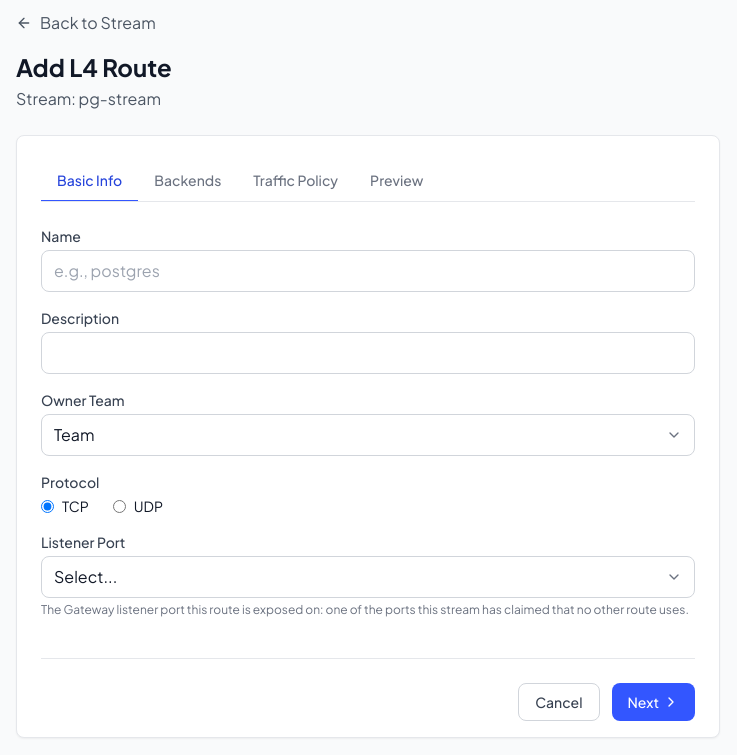
Scenario: gates policy sections by protocol
Check: the field labelled "Name" is shown, box [41,250,695,292]
Click the tab "Traffic Policy" at (296, 181), box [237,160,354,202]
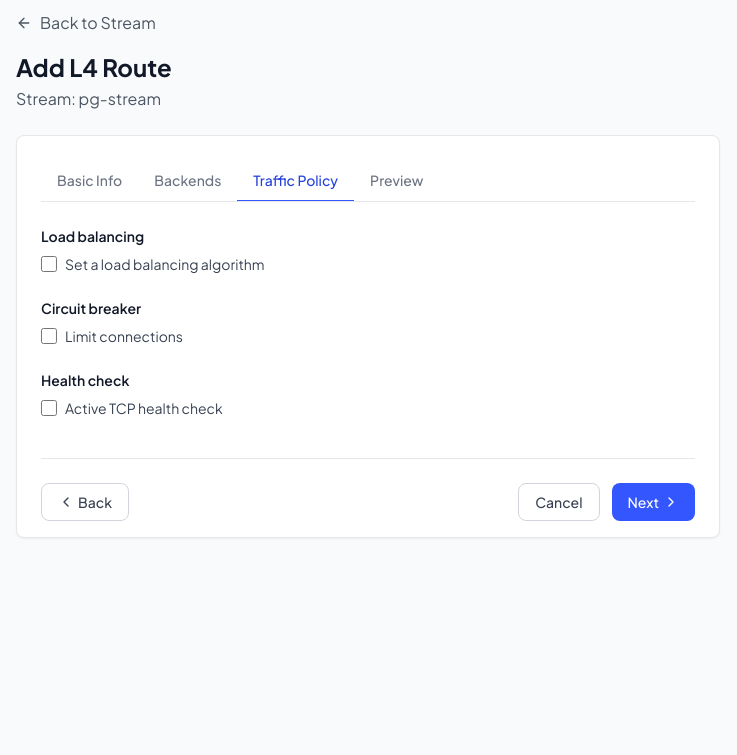
Check: the checkbox named "Enable circuit breaker" is shown, box [41,328,57,344]
Check: the checkbox named "Enable health check" is shown, box [41,400,57,416]
Check: the checkbox named "Enable load balancer" is shown, box [41,256,57,272]
Click the tab "Basic Info" at (90, 181), box [41,160,138,202]
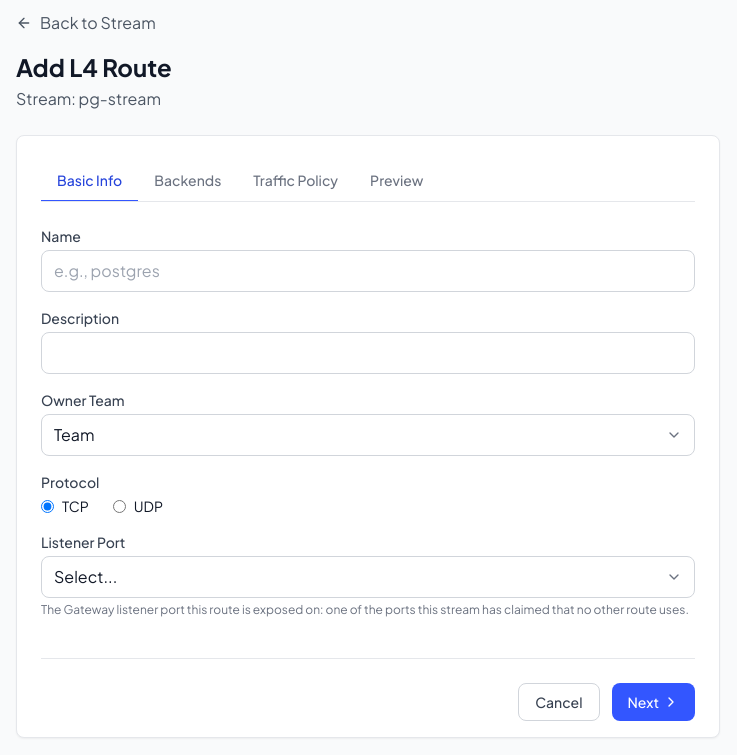
Click the radio button labelled "UDP" at (119, 506), box [113,500,126,512]
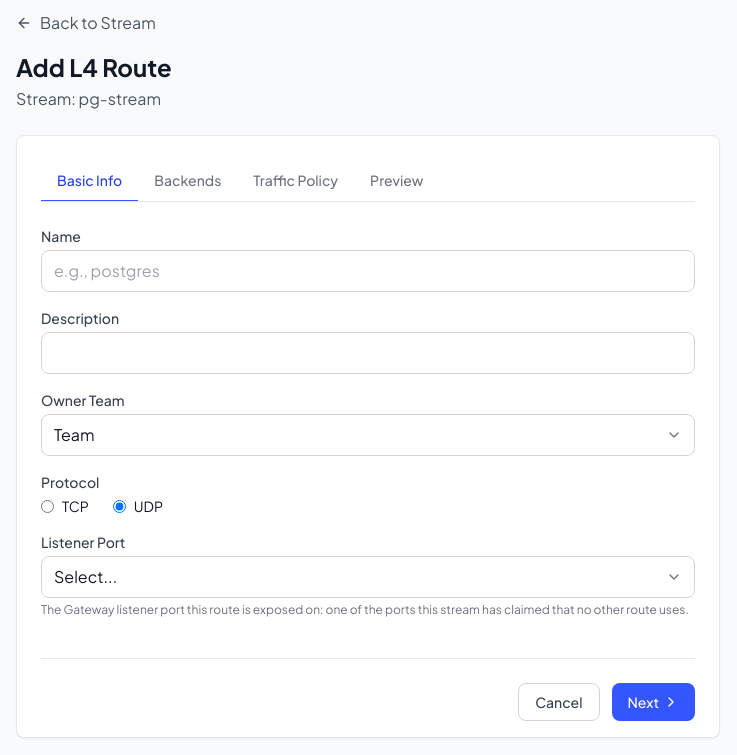
Click the tab "Traffic Policy" at (296, 181), box [237,160,354,202]
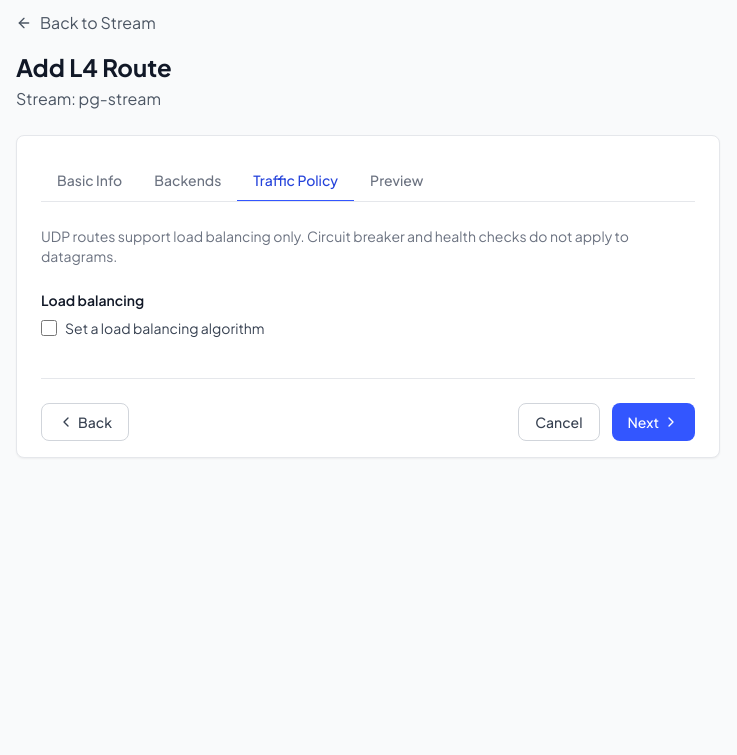
Check: the checkbox named "Enable load balancer" is shown, box [41,320,57,336]
Check: the text with test id "udp-policy-note" is shown, box [41,226,695,266]
